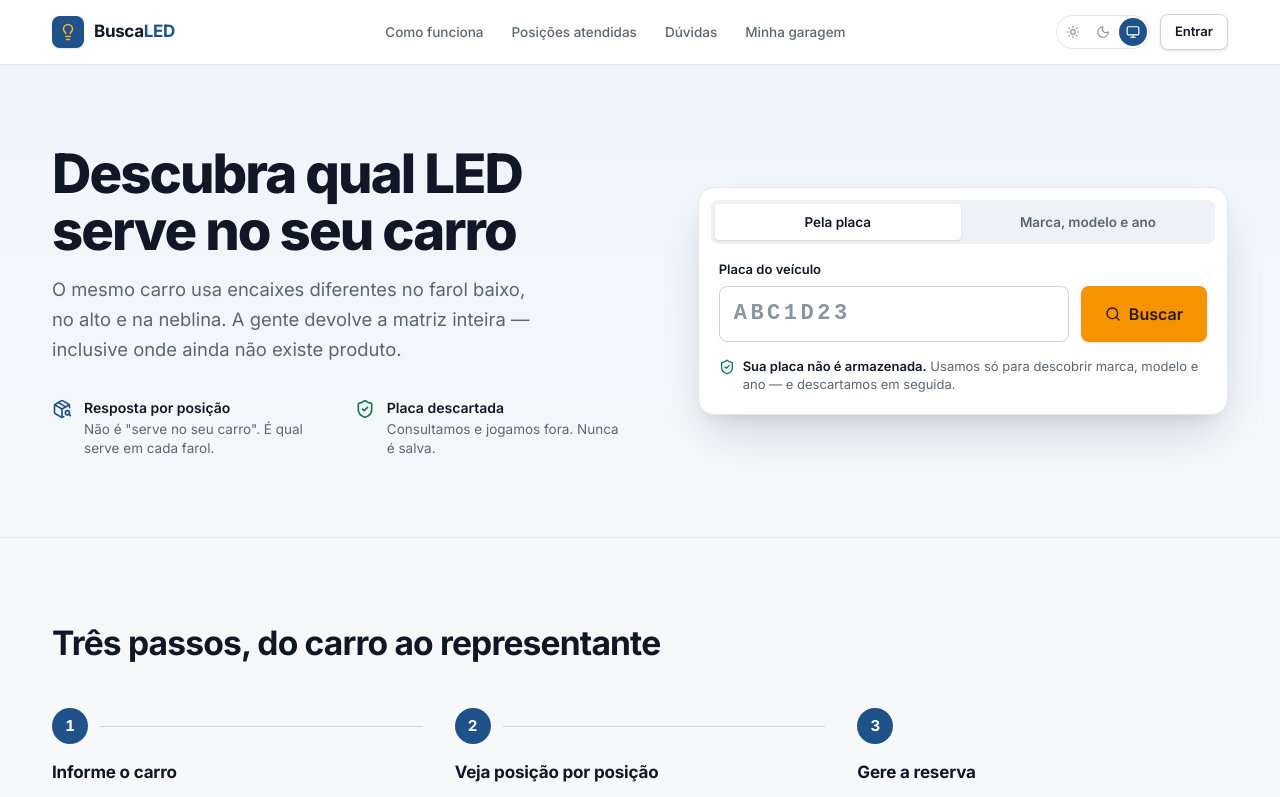
Test case: Landing › cobra marca, modelo e ano antes de buscar
Press the mouse on the tab "Marca, modelo e ano" at [1088, 222], box x1=965 y1=204 x2=1211 y2=240
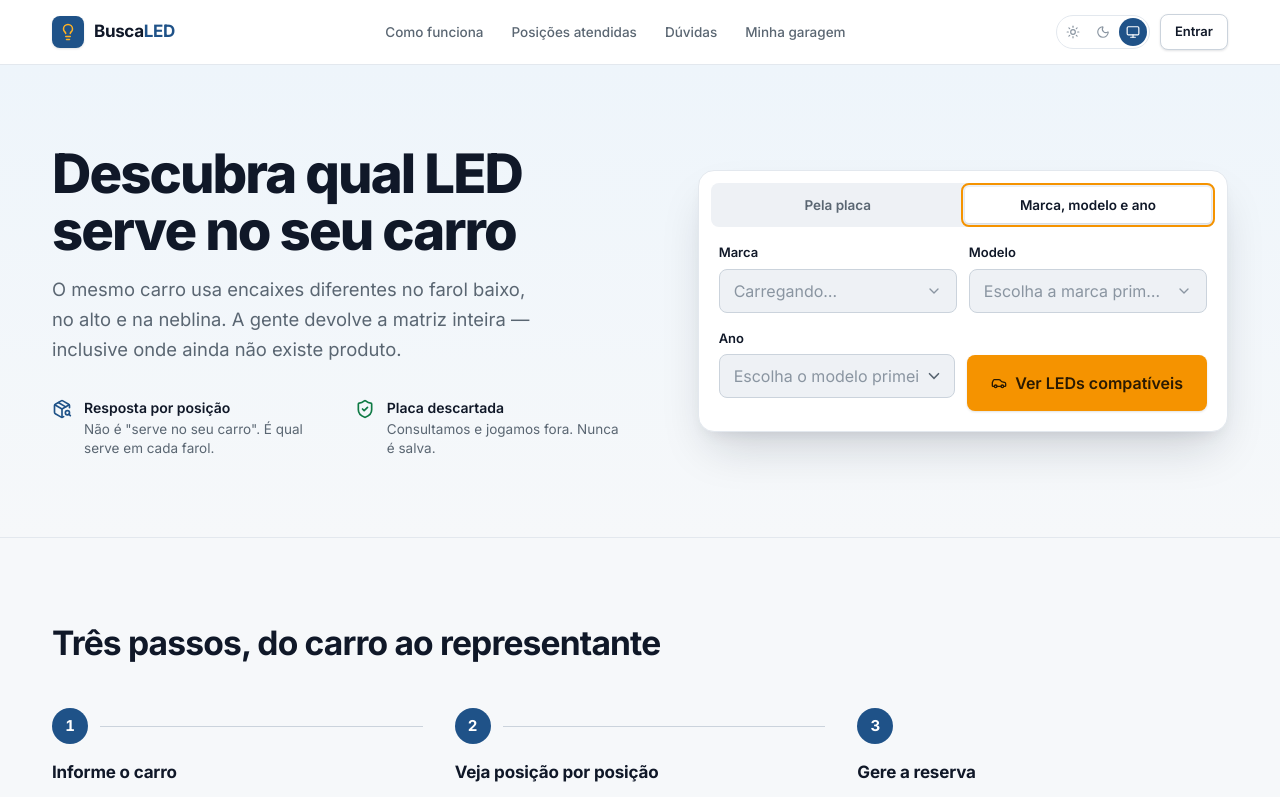
Check: the dropdown named "Marca" is shown, box x1=719 y1=269 x2=957 y2=313
Click the button "Ver LEDs compatíveis" at [1087, 383], box x1=967 y1=355 x2=1207 y2=411
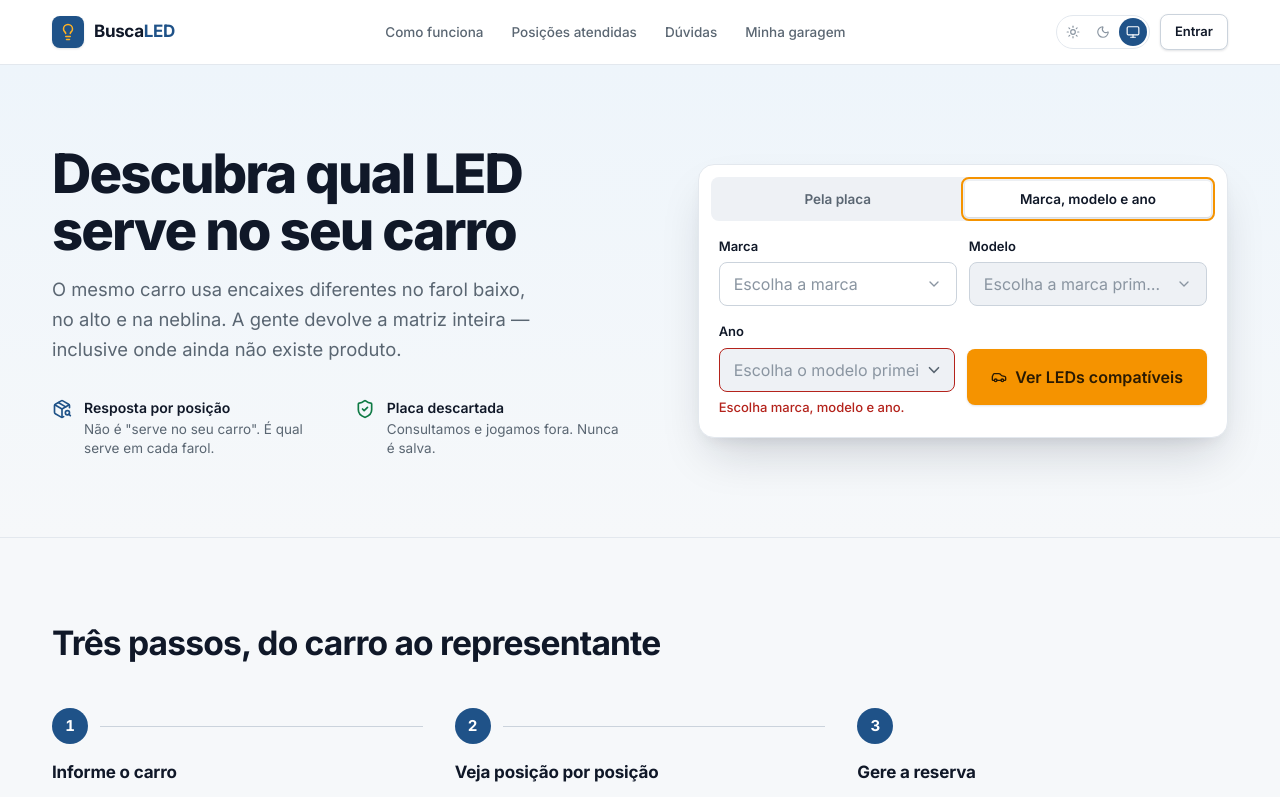
Check: the text "Escolha marca, modelo e ano." is shown, box x1=719 y1=399 x2=905 y2=415
